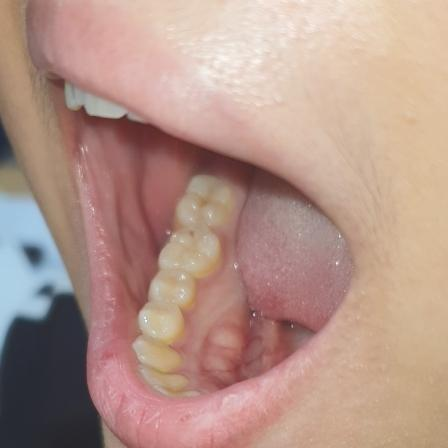Healthy: (158, 176, 233, 276), (133, 339, 200, 400), (136, 276, 200, 337)
